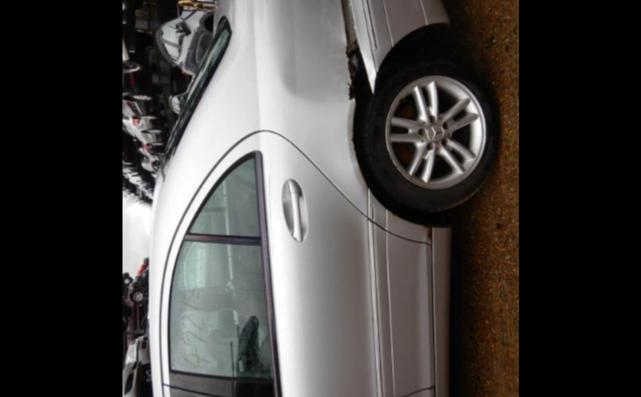Broken part: (338, 0, 373, 102)
Corrosion: (343, 38, 355, 102), (416, 225, 432, 241), (391, 213, 397, 218), (349, 135, 352, 142)
Dent: (268, 0, 346, 101)
